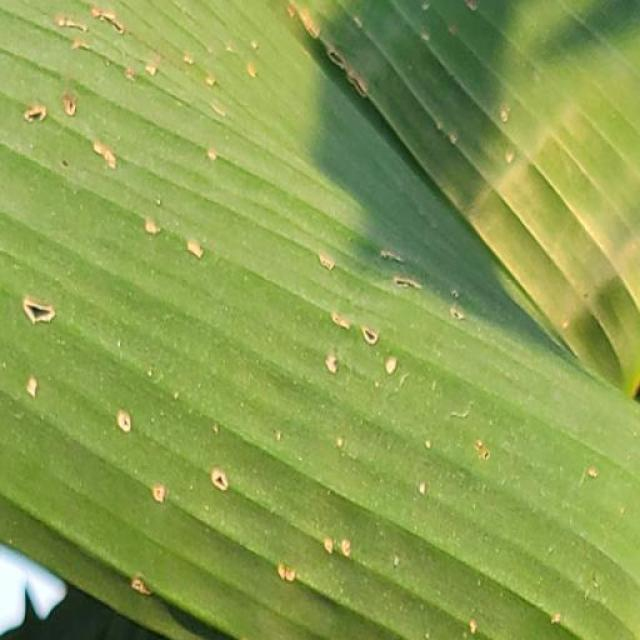Black_rot: (97, 384, 640, 640), (13, 8, 264, 278), (275, 0, 580, 202), (303, 237, 517, 425), (25, 289, 56, 405)
